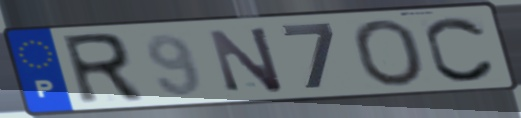7: (277, 20, 341, 93)
9: (145, 31, 204, 98)
C: (422, 14, 500, 84)
N: (204, 24, 288, 94)
O: (349, 17, 429, 89)
R: (57, 30, 148, 108)
